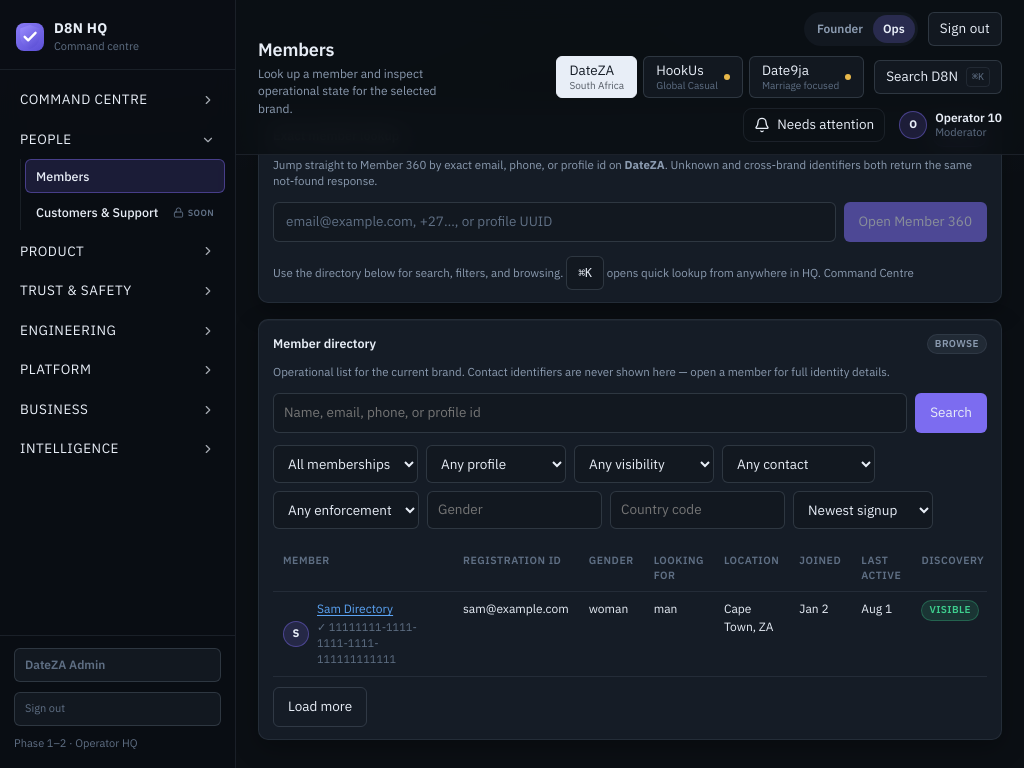
D8N HQ Phase 1 integration › loads member directory with filters and pagination
The image size is (1024, 768).
(page scrolled)
Check: the link "Sam Directory" is shown, box [317,602,393,616]
Click the button "Load more" at coordinates (320, 707), box [273,687,367,727]
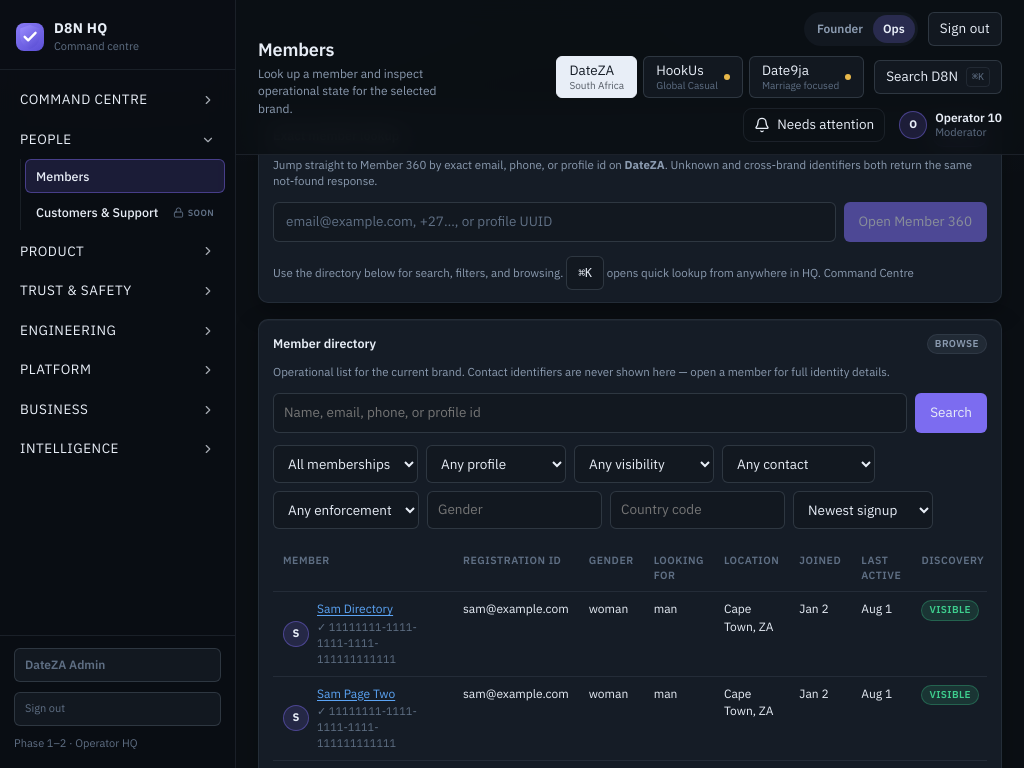
Check: the link "Sam Page Two" is shown, box [317,686,395,701]
Type "sam" into the field named "search members" at coordinates (590, 413), box [273,393,907,433]
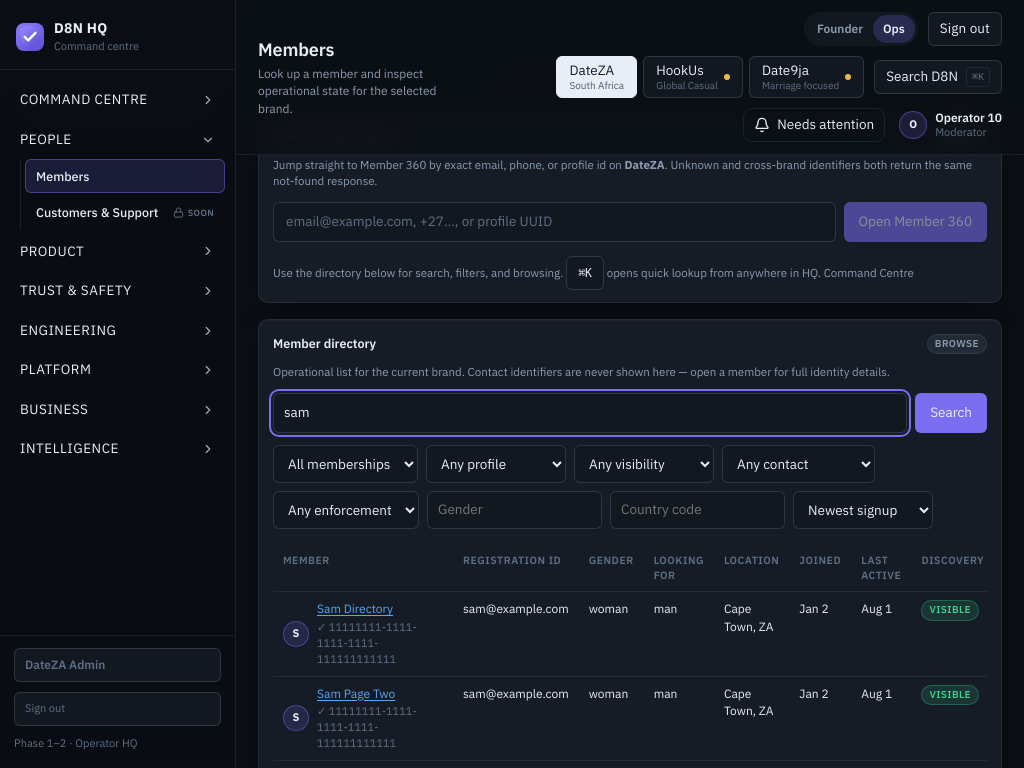
Click the button "Search" at coordinates (951, 413), box [915,393,987,433]
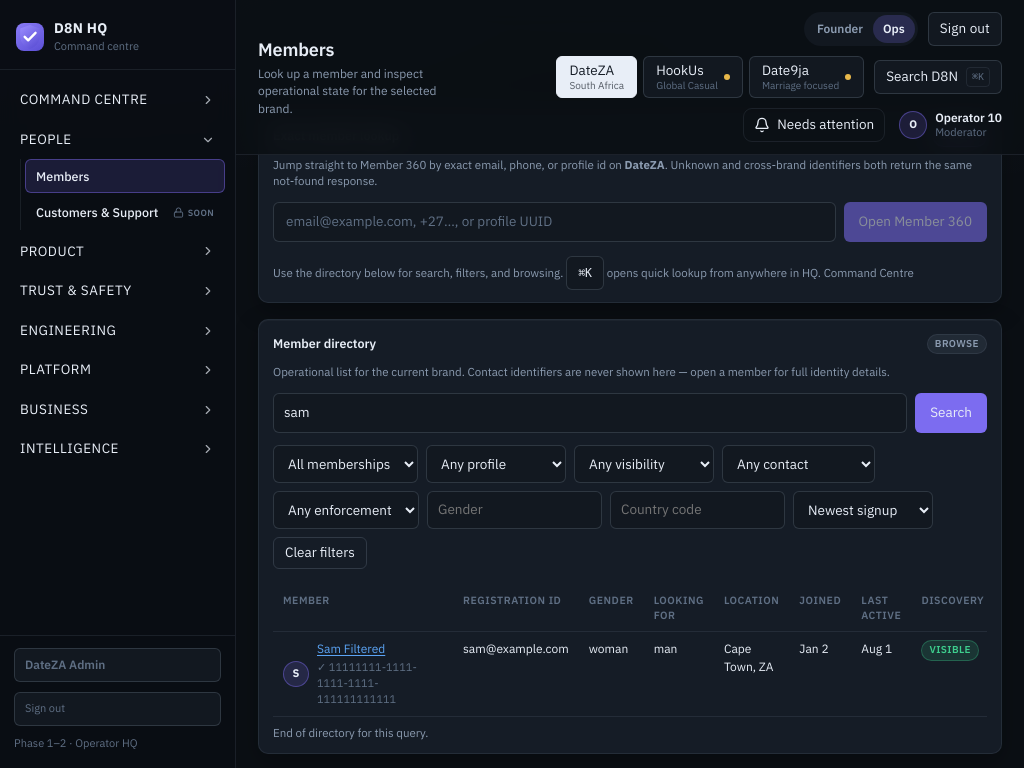
Check: the link "Sam Filtered" is shown, box [317,642,385,656]
